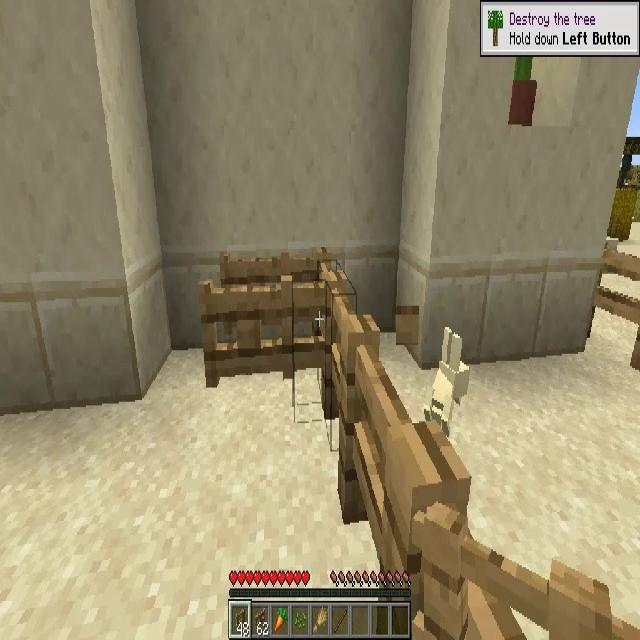rabbit: (427, 330, 471, 431)
